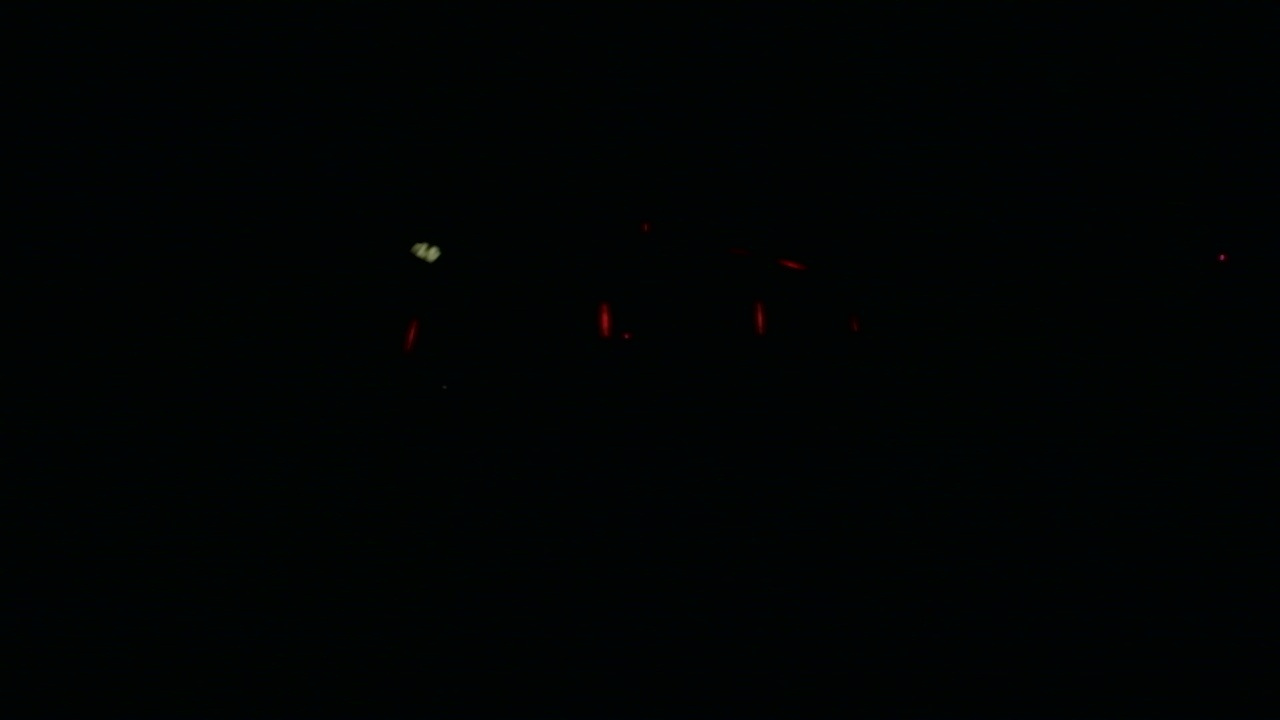lamp: (401, 298, 415, 351), (597, 297, 611, 331), (759, 297, 768, 331)
notpair2: (400, 298, 611, 354)
pair2: (596, 299, 771, 335)
